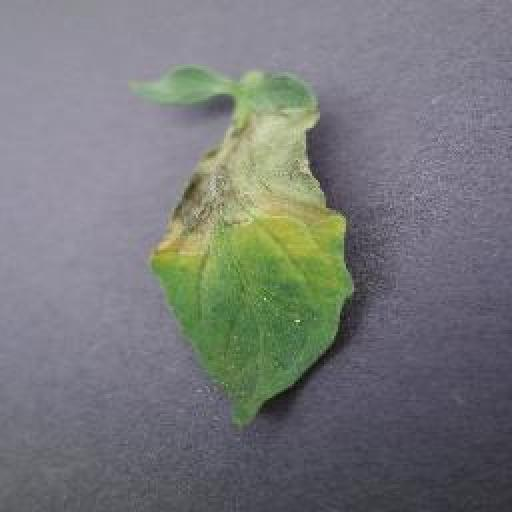Late Blight: (127, 67, 356, 425)
